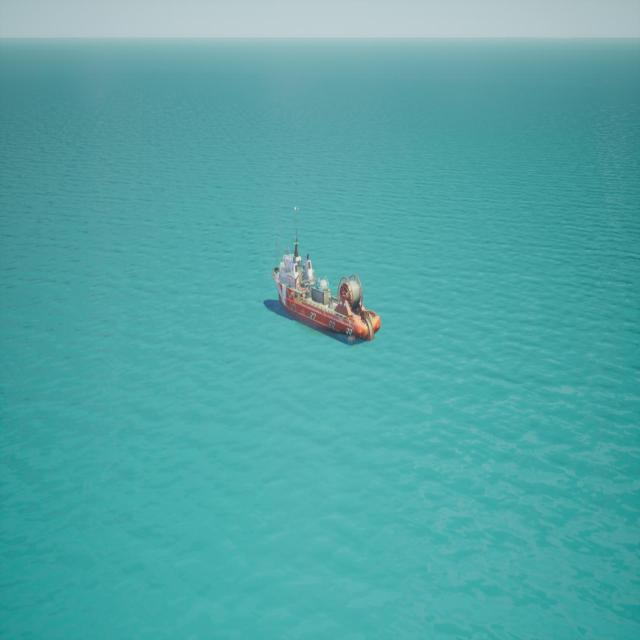tug boat: (266, 207, 379, 348)
